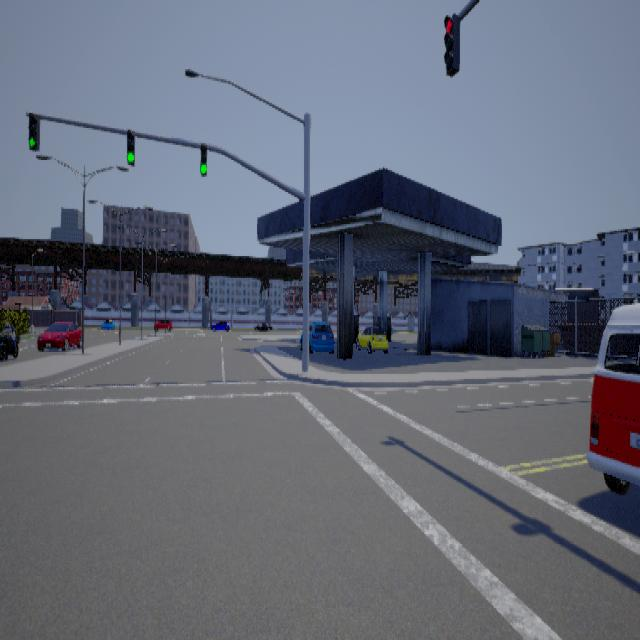green_light: (27, 111, 39, 150), (126, 128, 134, 165), (199, 142, 206, 175)
red_light: (443, 12, 459, 76)
vehicle: (585, 302, 639, 494), (36, 320, 81, 350), (355, 325, 388, 352), (308, 320, 333, 352), (0, 328, 20, 359), (154, 314, 172, 334)
